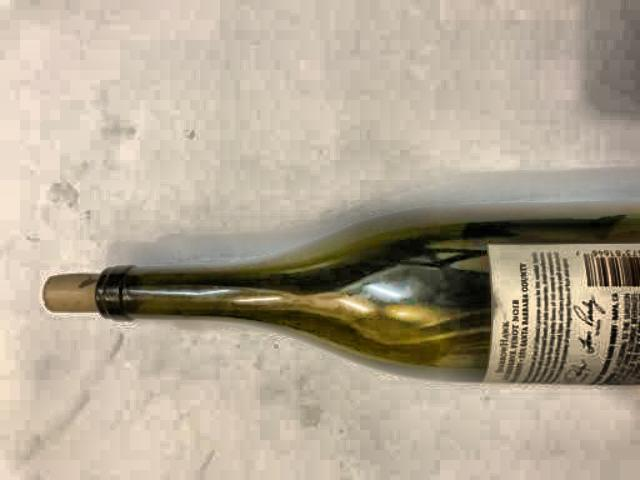Bottles: (0, 184, 640, 406)
